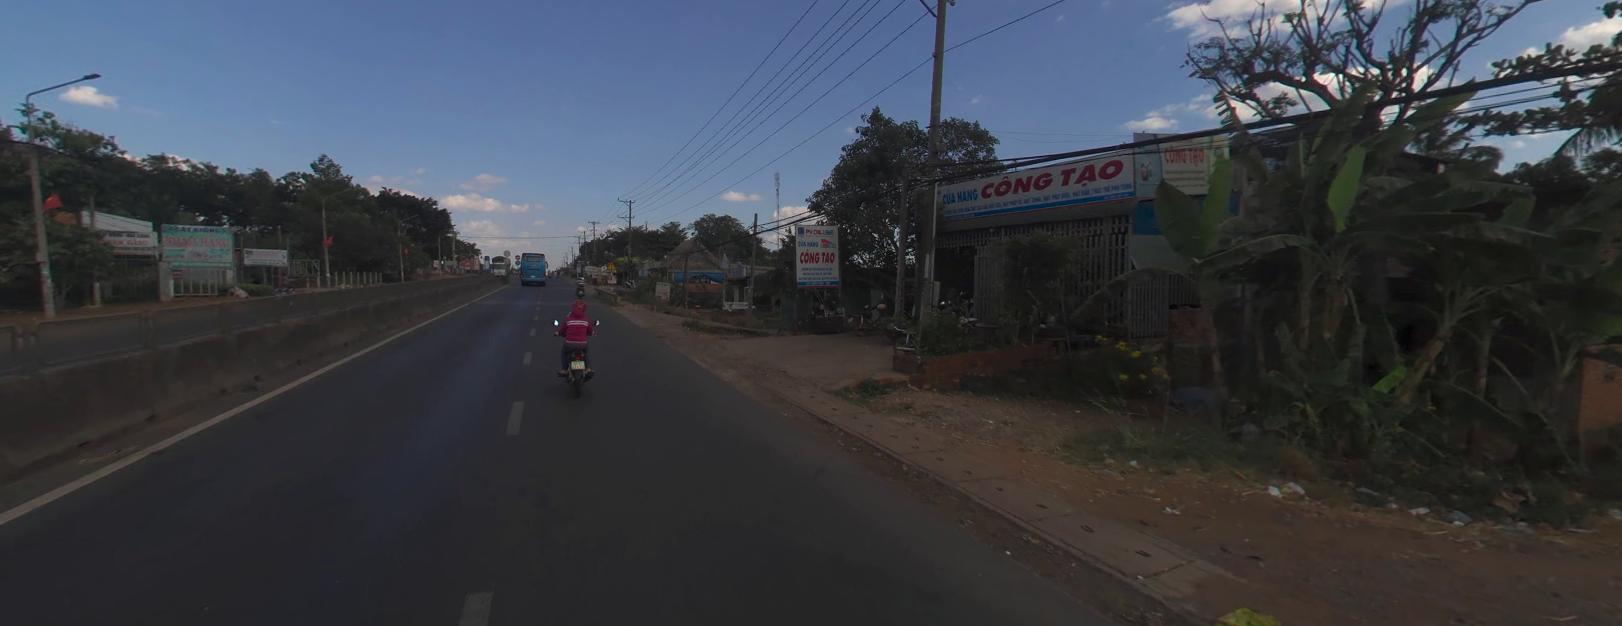Cam nguoc chieu: (514, 254, 519, 257)
Hieu lenh: (514, 259, 519, 264)
Nguy hiem: (606, 259, 615, 269)
